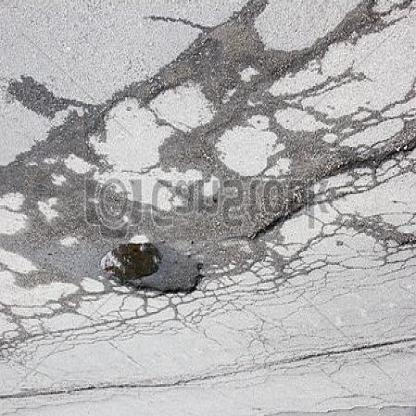pothole: (96, 243, 205, 304), (246, 204, 308, 245)
